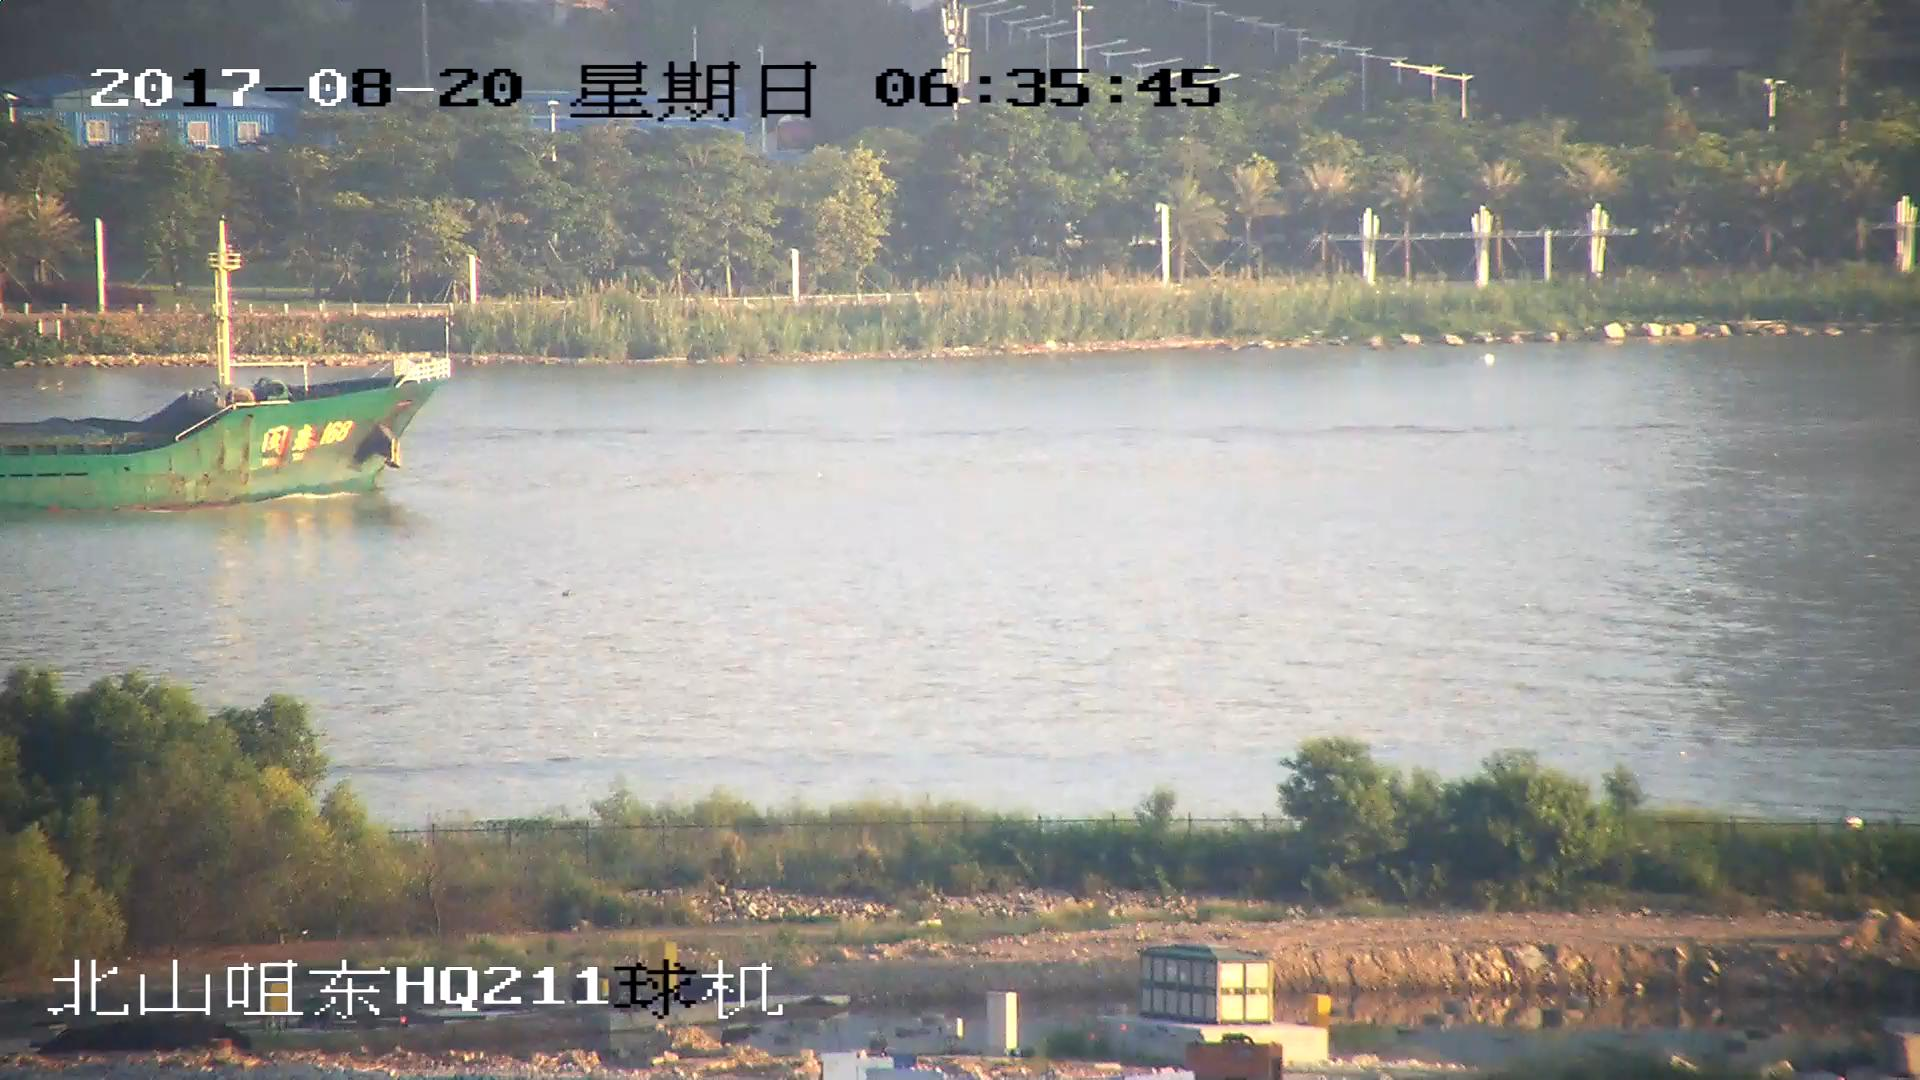general cargo ship: (1, 236, 455, 514)
